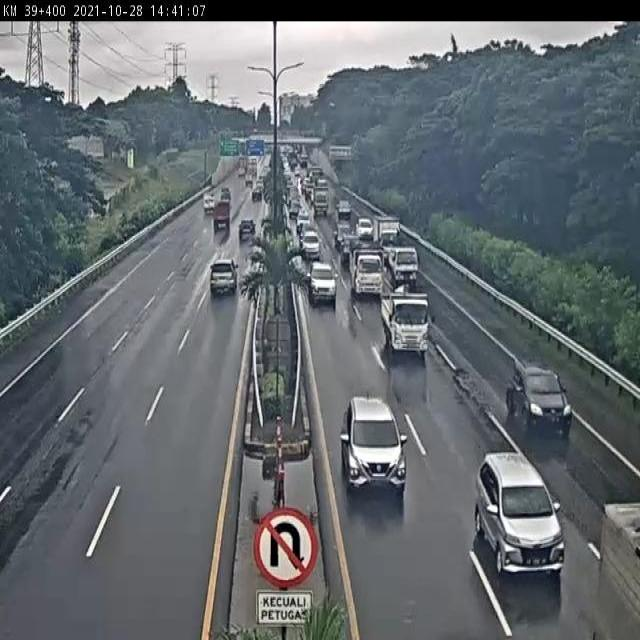car: (473, 451, 566, 576), (340, 395, 409, 493), (504, 357, 573, 435), (306, 260, 335, 303)
mid truck: (208, 258, 240, 298)
truck-m-: (378, 291, 430, 360), (348, 244, 385, 300)
truck-s-: (387, 243, 419, 284)
